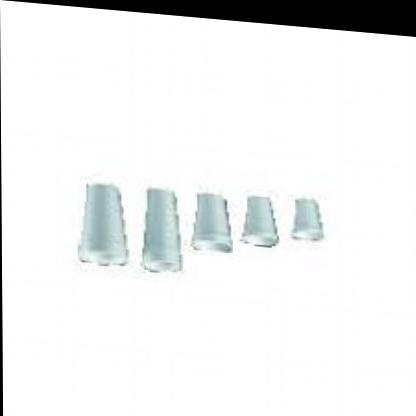trash: (78, 183, 128, 265), (79, 184, 127, 265), (142, 188, 181, 271), (143, 189, 180, 271), (190, 192, 232, 252), (192, 193, 231, 251), (241, 196, 278, 246), (292, 198, 322, 239)
